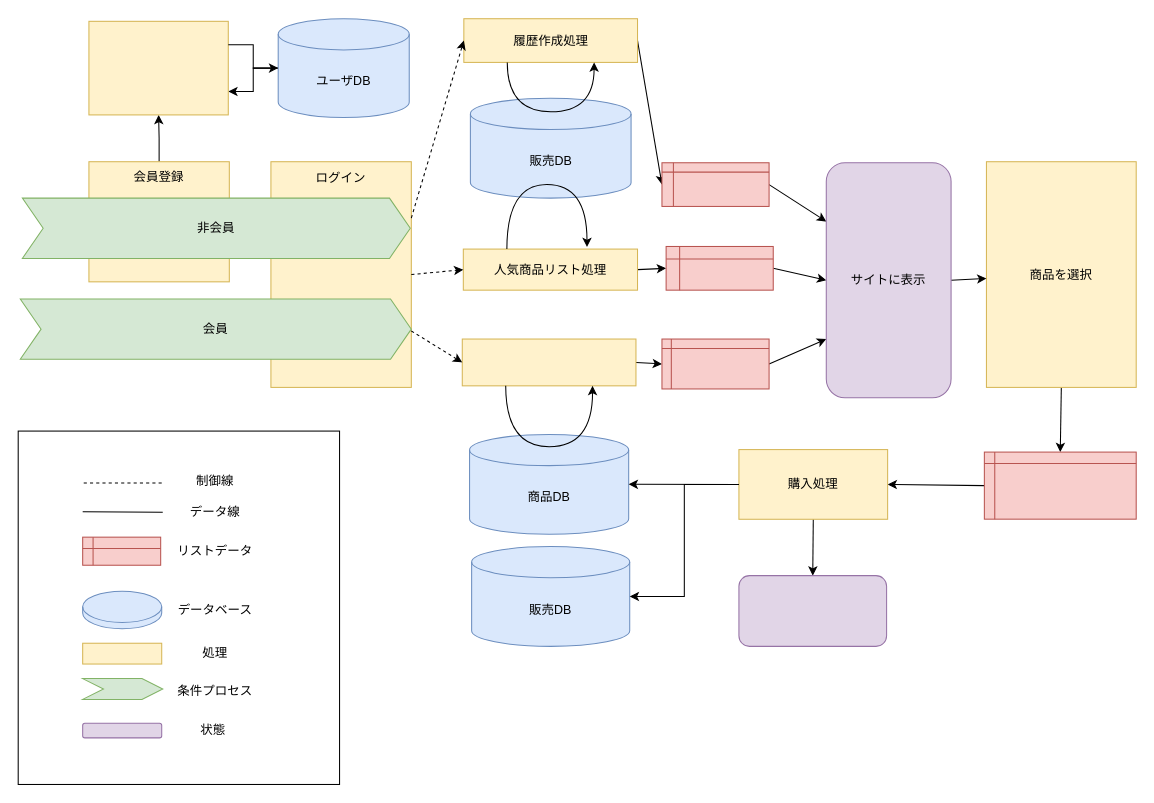
The diagram is 1154 pixels wide and 803 high, and some of its shapes have lost their labels. Here are the shapes that lost their labels. From the top down, the centre of each, then its label:
At [158,67]: "登録処理".
At [715,184]: "購入履歴".
At [719,267]: "人気商品リスト".
At [548,362]: "商品リスト処理".
At [715,363]: "商品リスト".
At [1059,485]: "購入商品リスト".
At [812,610]: "購入完了".
